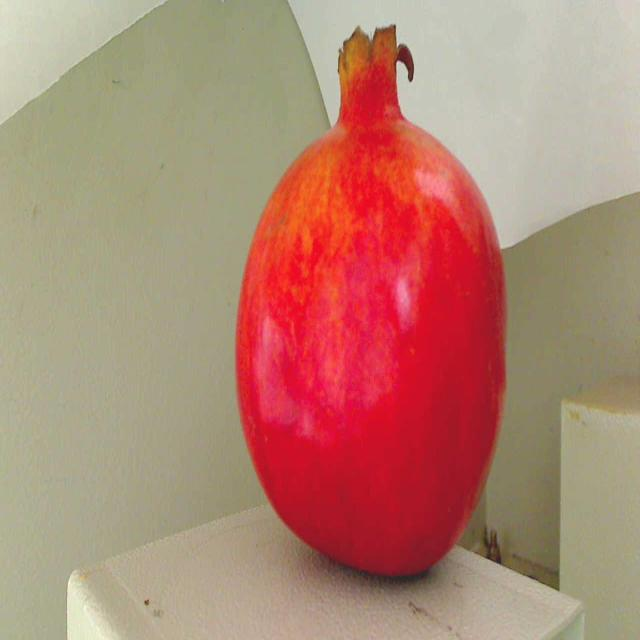pomegranate: (228, 0, 529, 605)
